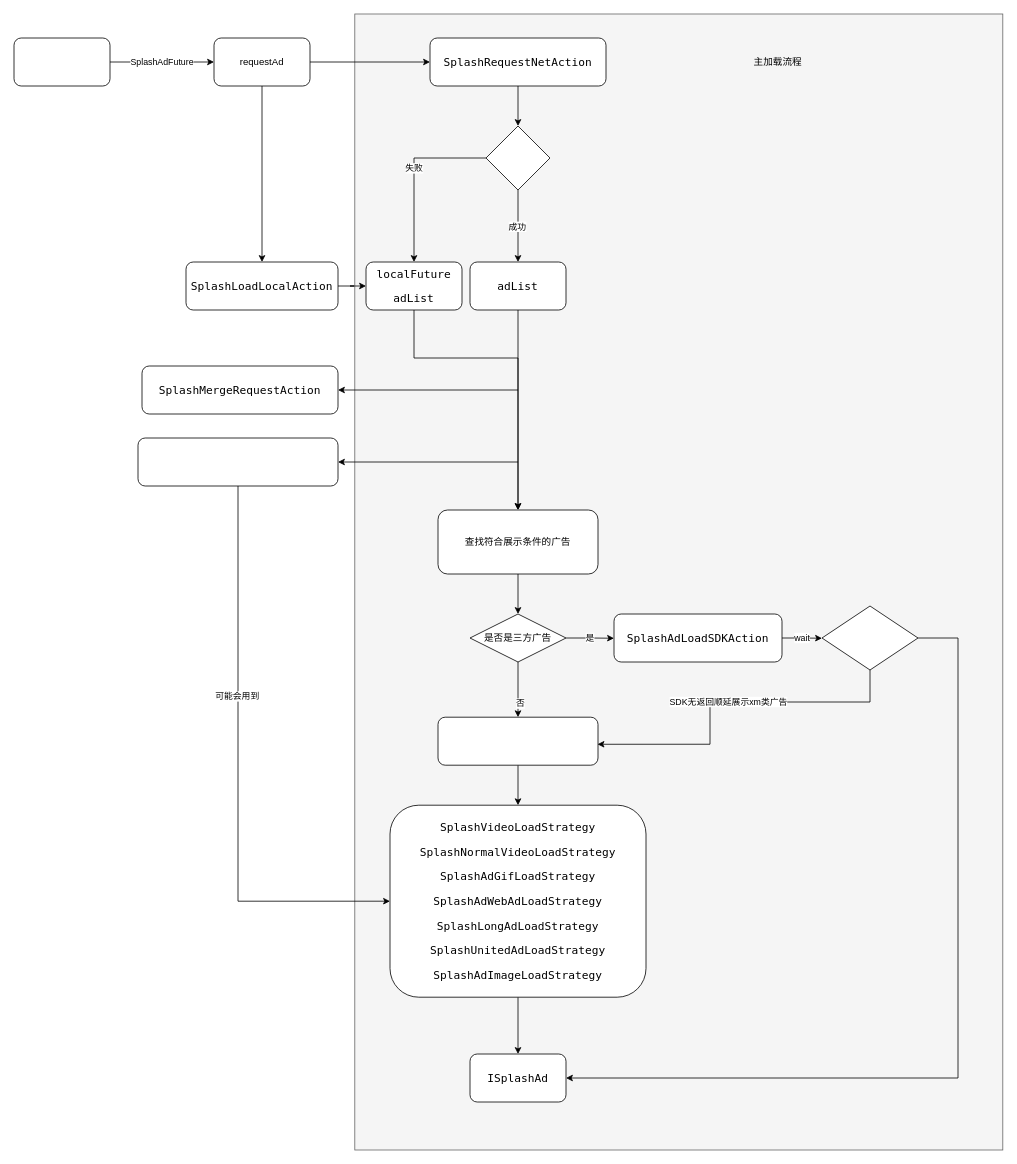
The diagram is 1017 pixels wide and 1164 high, and some of its shapes have lost their labels. Here are the shapes that lost their labels. From the top down, the centre of each, then its label:
(x=61, y=61): preloadAd
(x=517, y=157): 请求状态
(x=237, y=461): SplashAdPreDownloadAction
(x=869, y=637): 三方加载状态
(x=517, y=740): SplashResLoadAction
